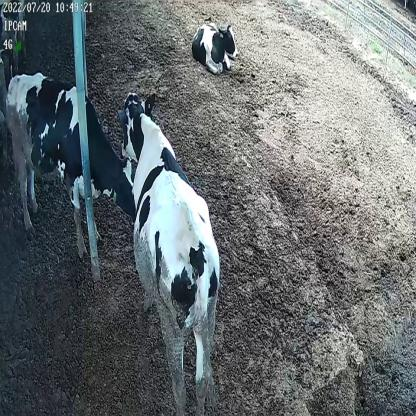cow: (116, 89, 223, 413), (7, 68, 138, 263), (192, 12, 238, 73)
